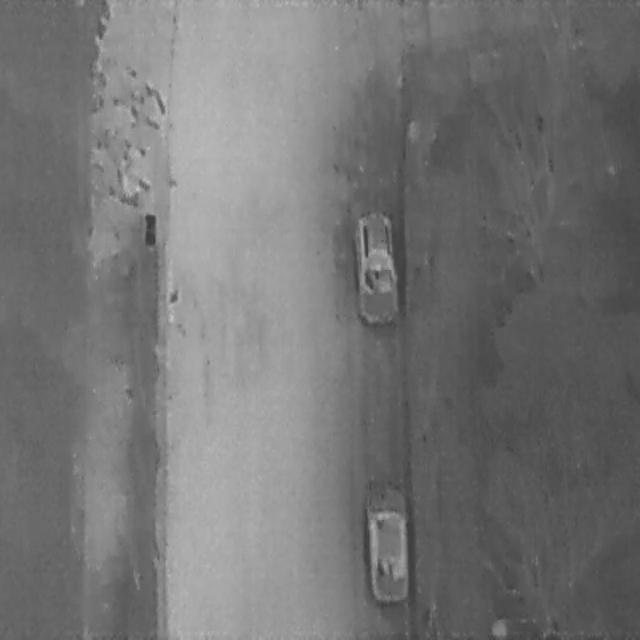Car: (361, 482, 413, 602), (351, 208, 400, 328)
